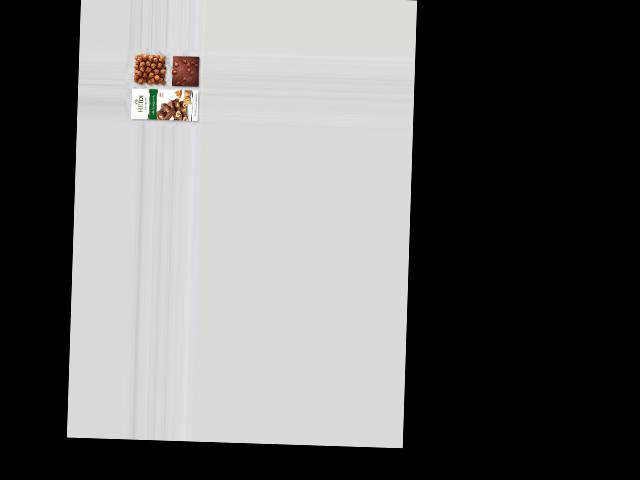chocolate: (171, 52, 201, 88)
